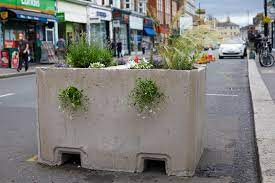obstacle: (33, 56, 211, 178)
